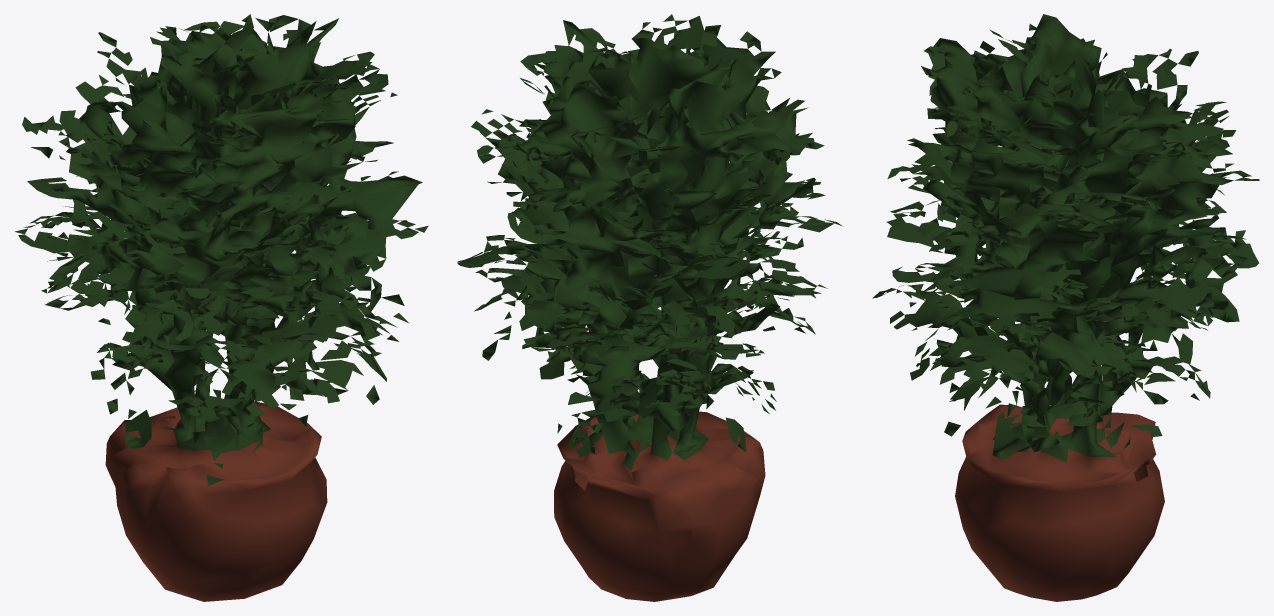
File: Grande_plante_1.glb
3 views of the same model, side by side, from view 1: azimuth 30°, elevation 25°; view 2: azimuth 150°, elevation 25°; view 3: azimuth 270°, elevation 25° (orthographic). The views are drawn at different scales.
Parts seen in each view (by area): view 1: Mesh1; view 2: Mesh1; view 3: Mesh1.
Part boxes in pixels (x1,y1,x2,y2): Mesh1: (15, 14, 428, 601); Mesh1: (457, 14, 842, 601); Mesh1: (872, 14, 1259, 601).
Bounding box in the file's own units: 3.07 × 4.56 × 2.99.
